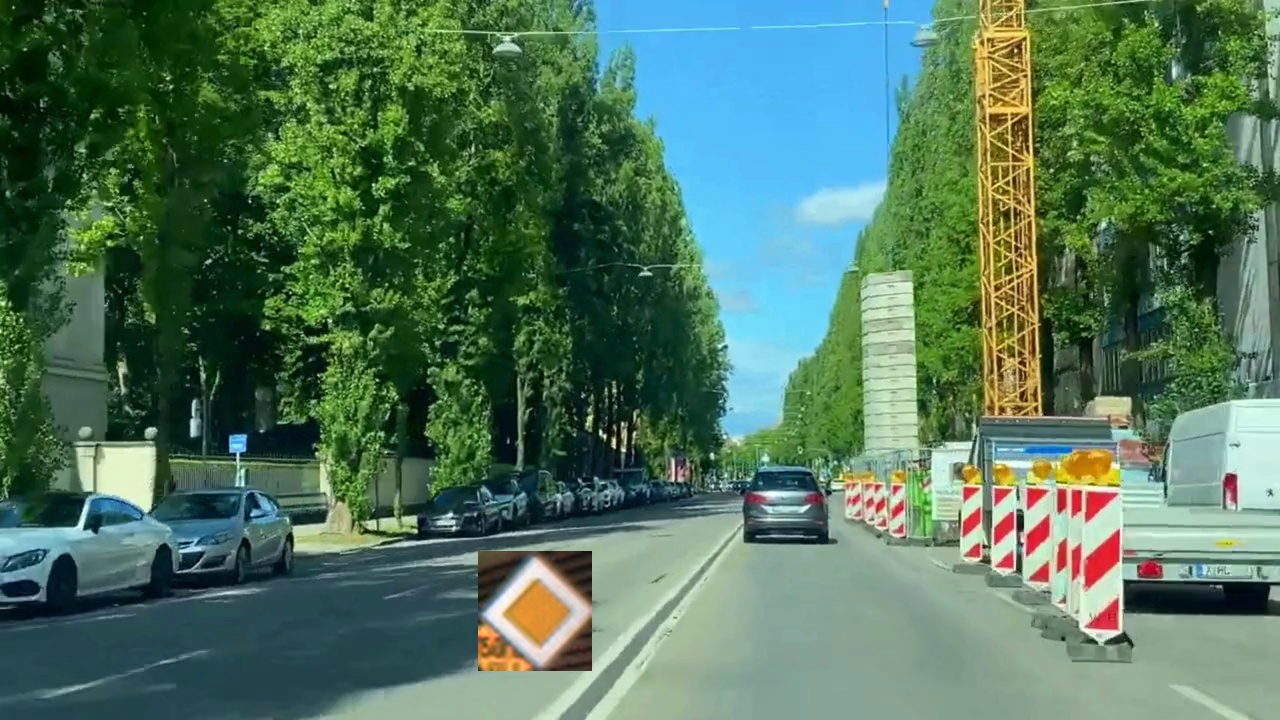Priority road: (478, 551, 592, 671)
